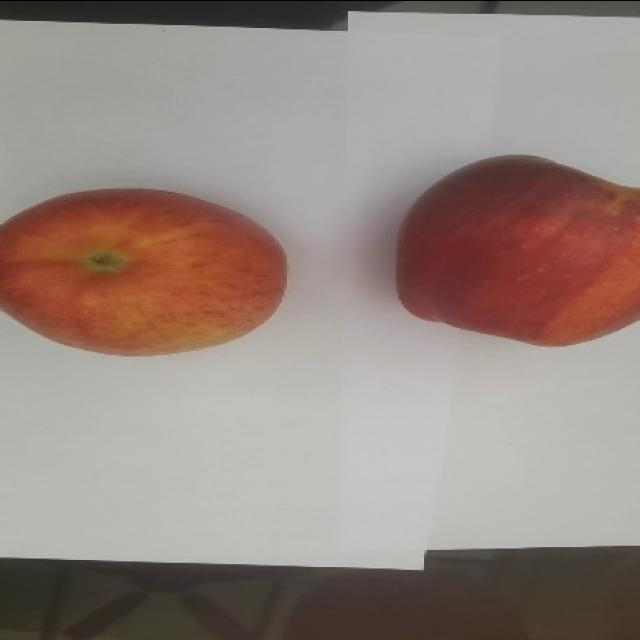Apple: (0, 186, 288, 357), (394, 152, 639, 347)
